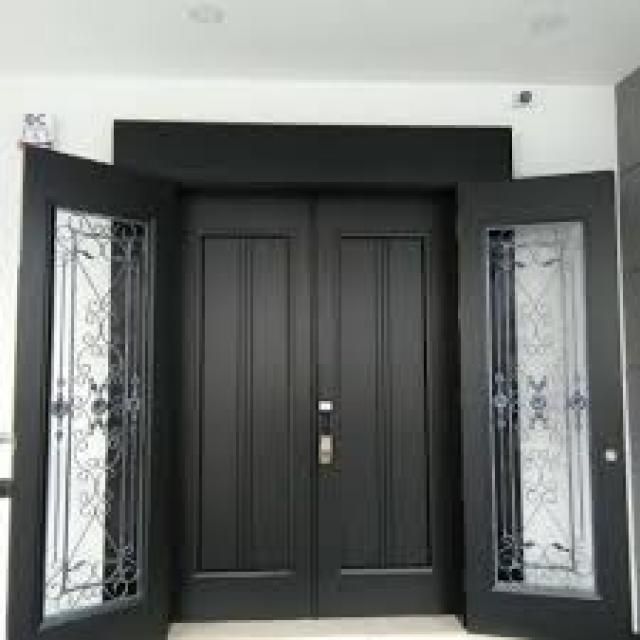Door: (168, 184, 464, 612)
